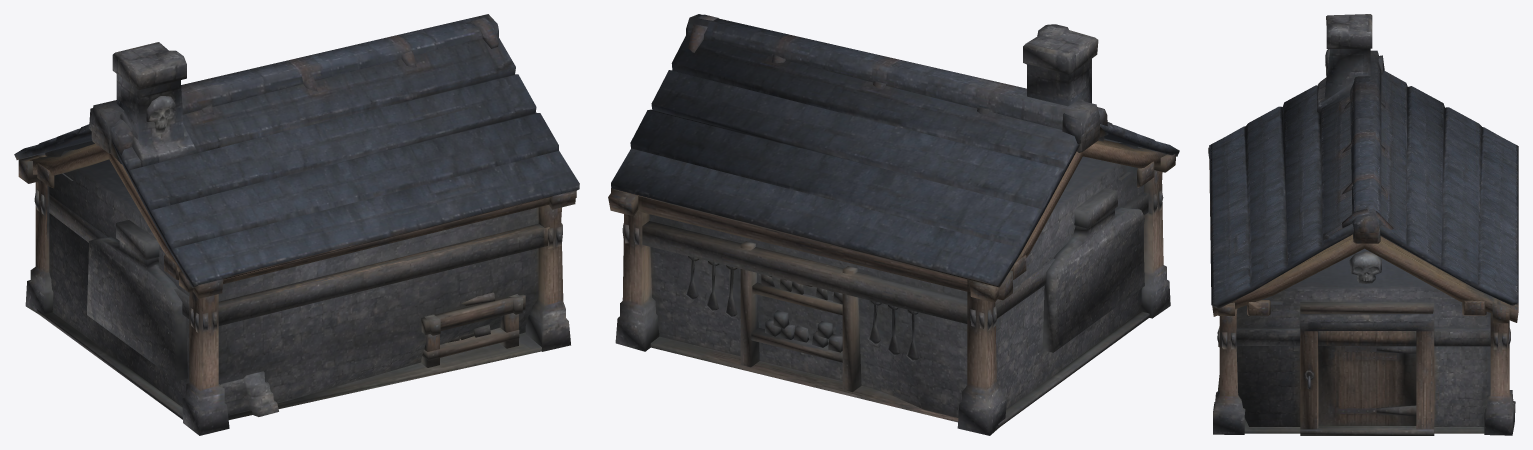
File: smithy.glb
The picture shows the model from 3 angles, left to right: view 1: azimuth 30°, elevation 25°; view 2: azimuth 150°, elevation 25°; view 3: azimuth 270°, elevation 25°; orthographic projection. The views are drawn at different scales.
Parts seen in each view (by area): view 1: tripo_node_5bc39d5f-46d0-4463-80db-4c262b3427b2; view 2: tripo_node_5bc39d5f-46d0-4463-80db-4c262b3427b2; view 3: tripo_node_5bc39d5f-46d0-4463-80db-4c262b3427b2.
Boxes of the visible parts, x1,y1,x2,y2 form: tripo_node_5bc39d5f-46d0-4463-80db-4c262b3427b2: [14, 14, 579, 435]; tripo_node_5bc39d5f-46d0-4463-80db-4c262b3427b2: [608, 14, 1179, 435]; tripo_node_5bc39d5f-46d0-4463-80db-4c262b3427b2: [1208, 14, 1518, 435].
Size of the model in its own units: 0.998 by 0.7754 by 0.7988.
Materials: 1 (1 with a texture image).
